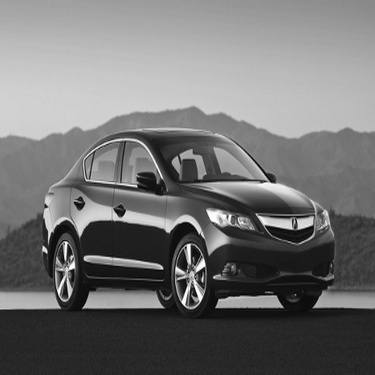car: (20, 119, 341, 322)
